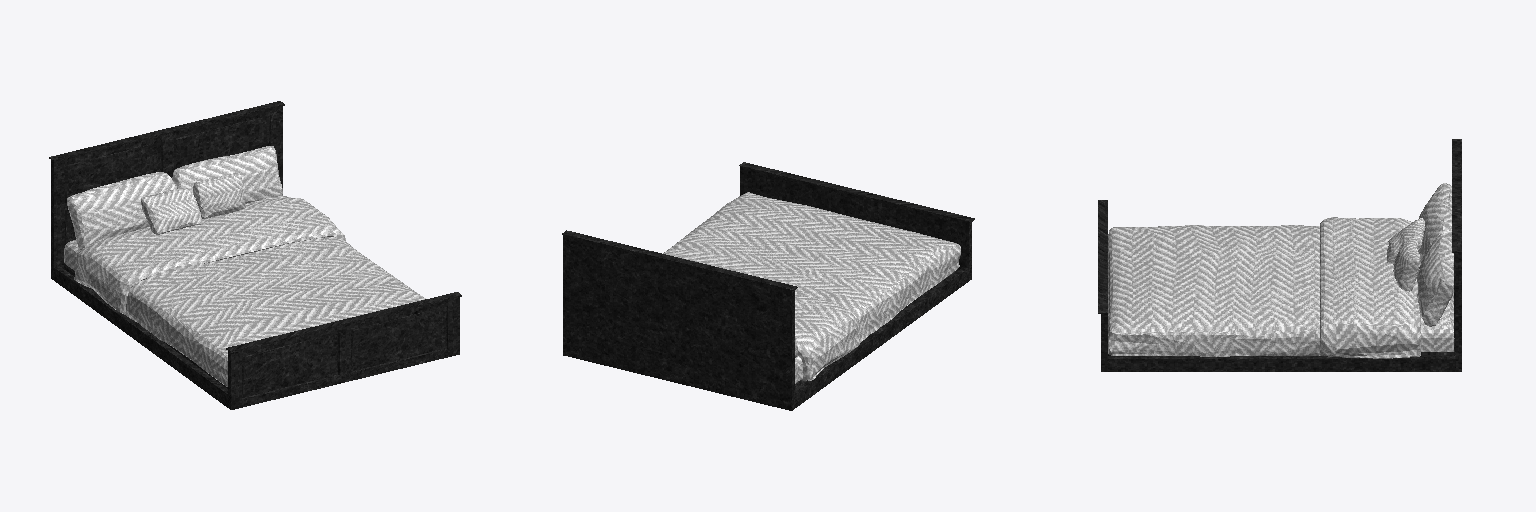
3 renders of one model, left to right at view 1: azimuth 30°, elevation 25°; view 2: azimuth 150°, elevation 25°; view 3: azimuth 270°, elevation 25°, orthographic.
Visible parts, largest first — view 1: Full_Size_Bed_with_White_Sheets_Black_V1; view 2: Full_Size_Bed_with_White_Sheets_Black_V1; view 3: Full_Size_Bed_with_White_Sheets_Black_V1.
Part boxes in pixels (x1,y1,x2,y2): Full_Size_Bed_with_White_Sheets_Black_V1: (49,101,461,409); Full_Size_Bed_with_White_Sheets_Black_V1: (562,162,974,410); Full_Size_Bed_with_White_Sheets_Black_V1: (1098,139,1461,371).
Size of the model in its own units: 1.4 by 0.7 by 1.9.
2 materials, 2 textured.